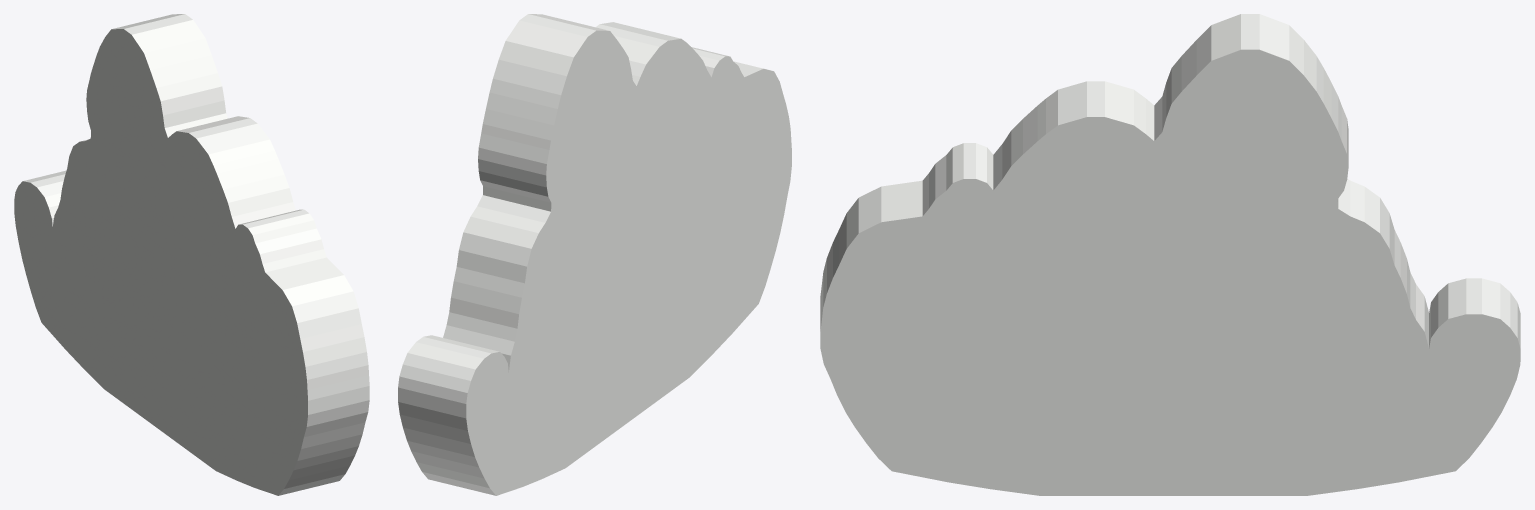
File: Cloud 2T.fbx
The picture shows the model from 3 angles, left to right: view 1: azimuth 30°, elevation 25°; view 2: azimuth 150°, elevation 25°; view 3: azimuth 270°, elevation 25°; orthographic projection. The views are drawn at different scales.
Visible parts, largest first — view 1: Cloud 2; view 2: Cloud 2; view 3: Cloud 2.
Boxes of the visible parts, left/top/right/bottom form: Cloud 2: left=14, top=14, right=369, bottom=495; Cloud 2: left=398, top=14, right=791, bottom=495; Cloud 2: left=820, top=14, right=1520, bottom=495.
Size of the model in its own units: 71.7 by 417 by 593.
